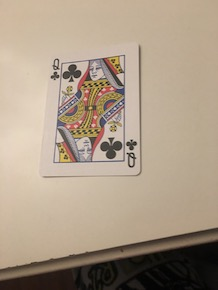QueenOfClubs: (38, 41, 147, 184)
